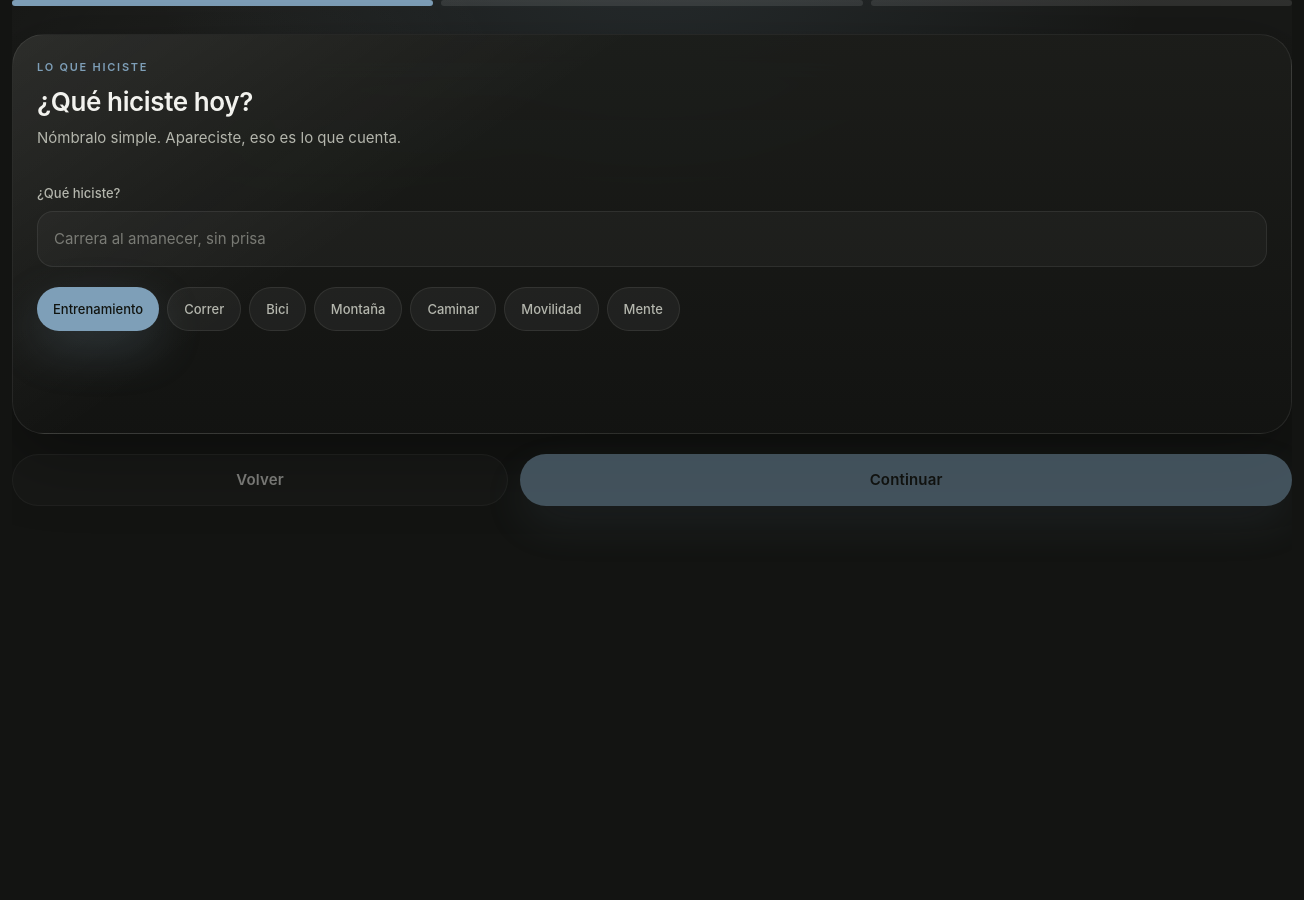
CommitFlowClient › preserves the note when navigating back from the submit step
In the field labelled "¿Qué hiciste?": (652, 239) [37,211,1267,267], type "Tren inferior"
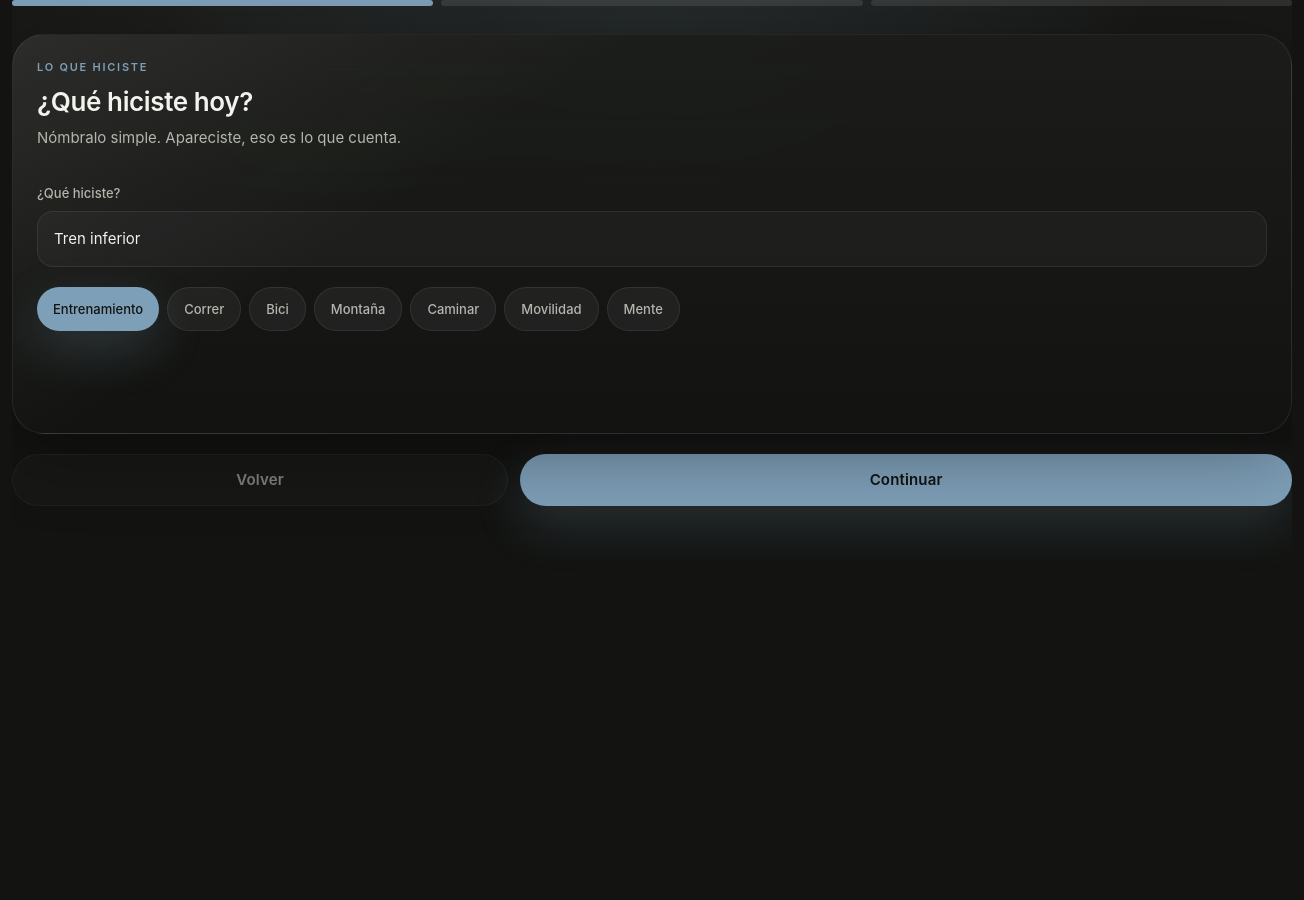
Click the button "Continuar": (906, 480) [520,454,1292,506]
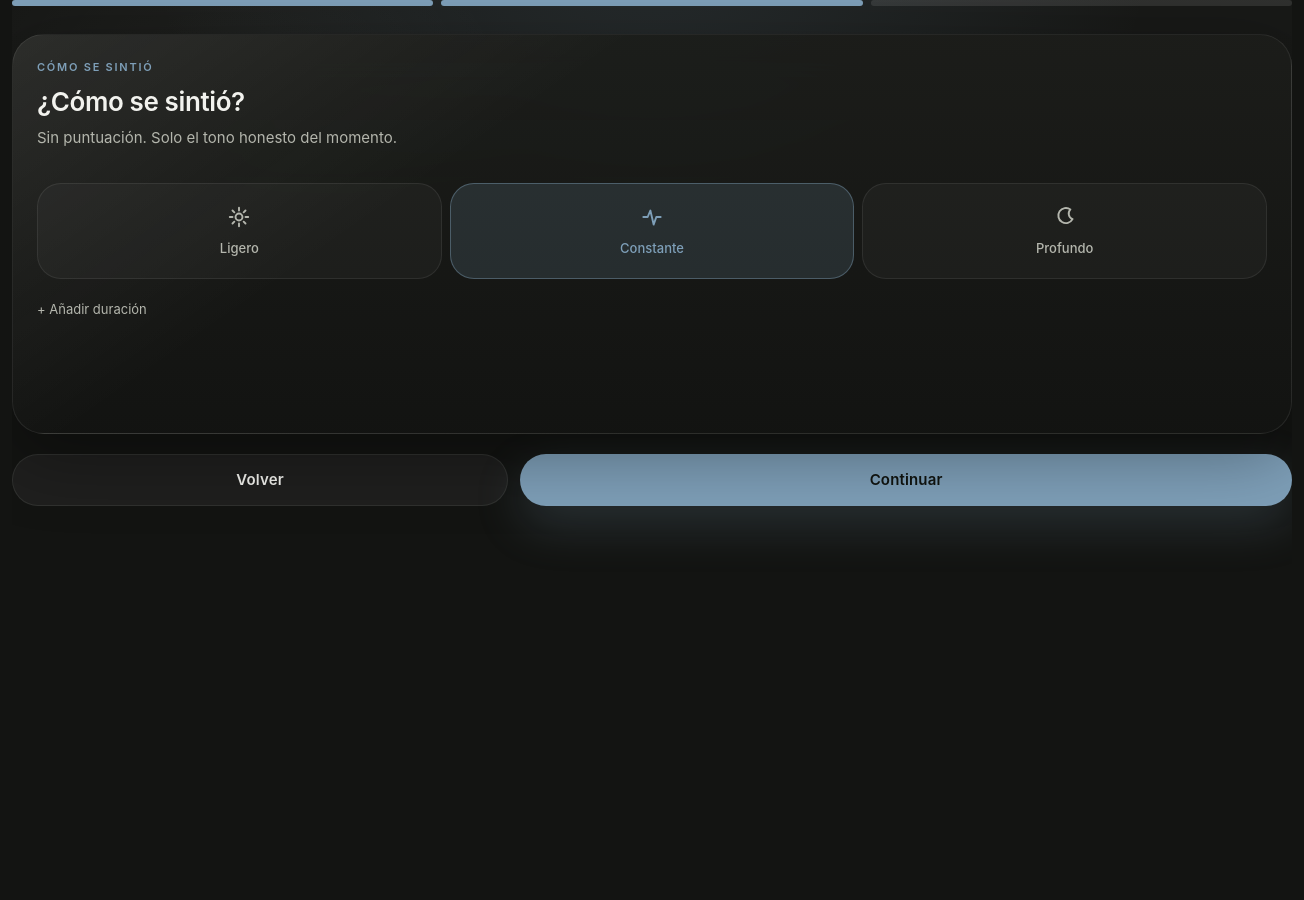
Click the button "Continuar": (906, 480) [520,454,1292,506]
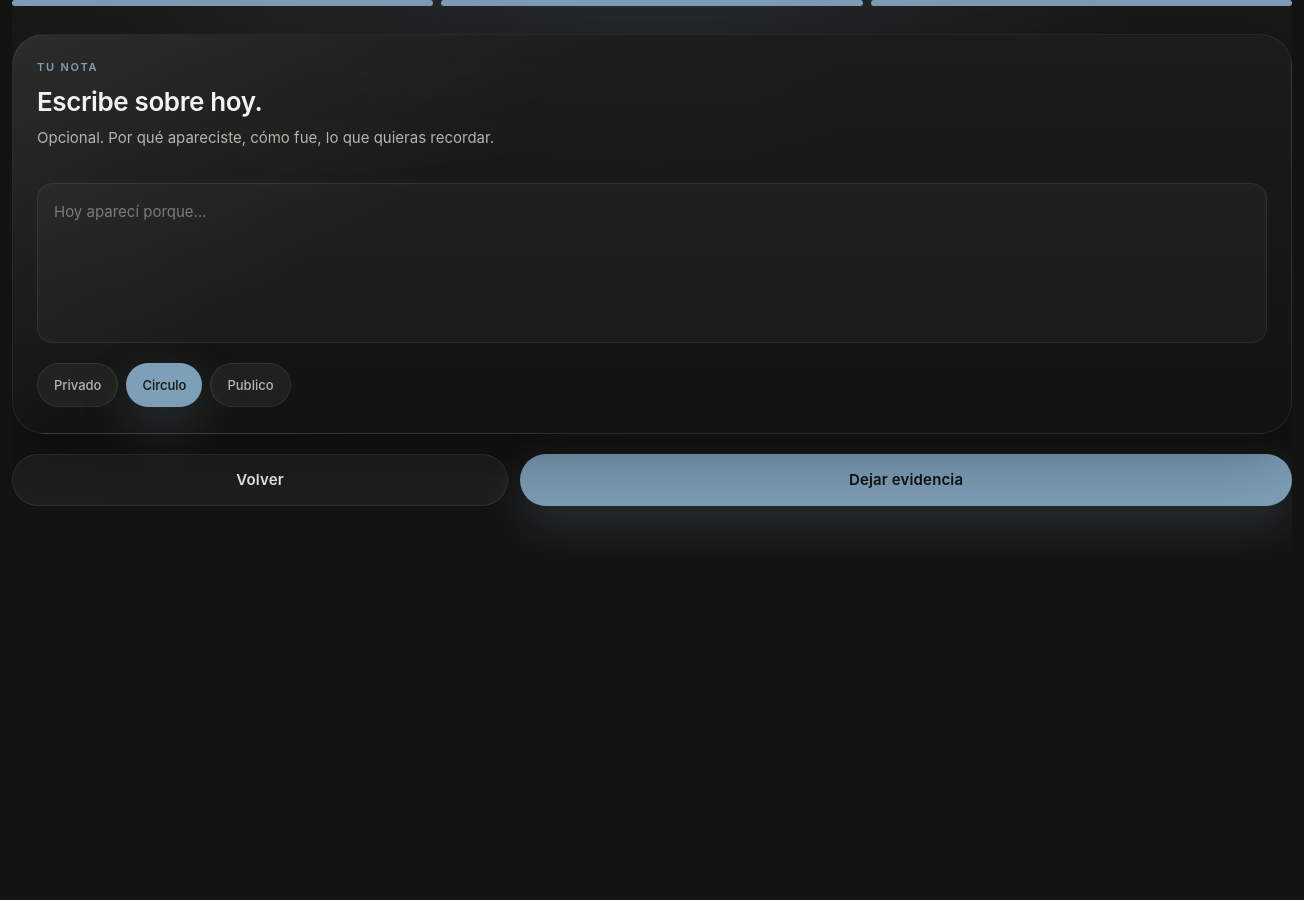
In the text box named "Tu nota": (652, 263) [37,183,1267,343], type "Hoy aparecí porque importa."
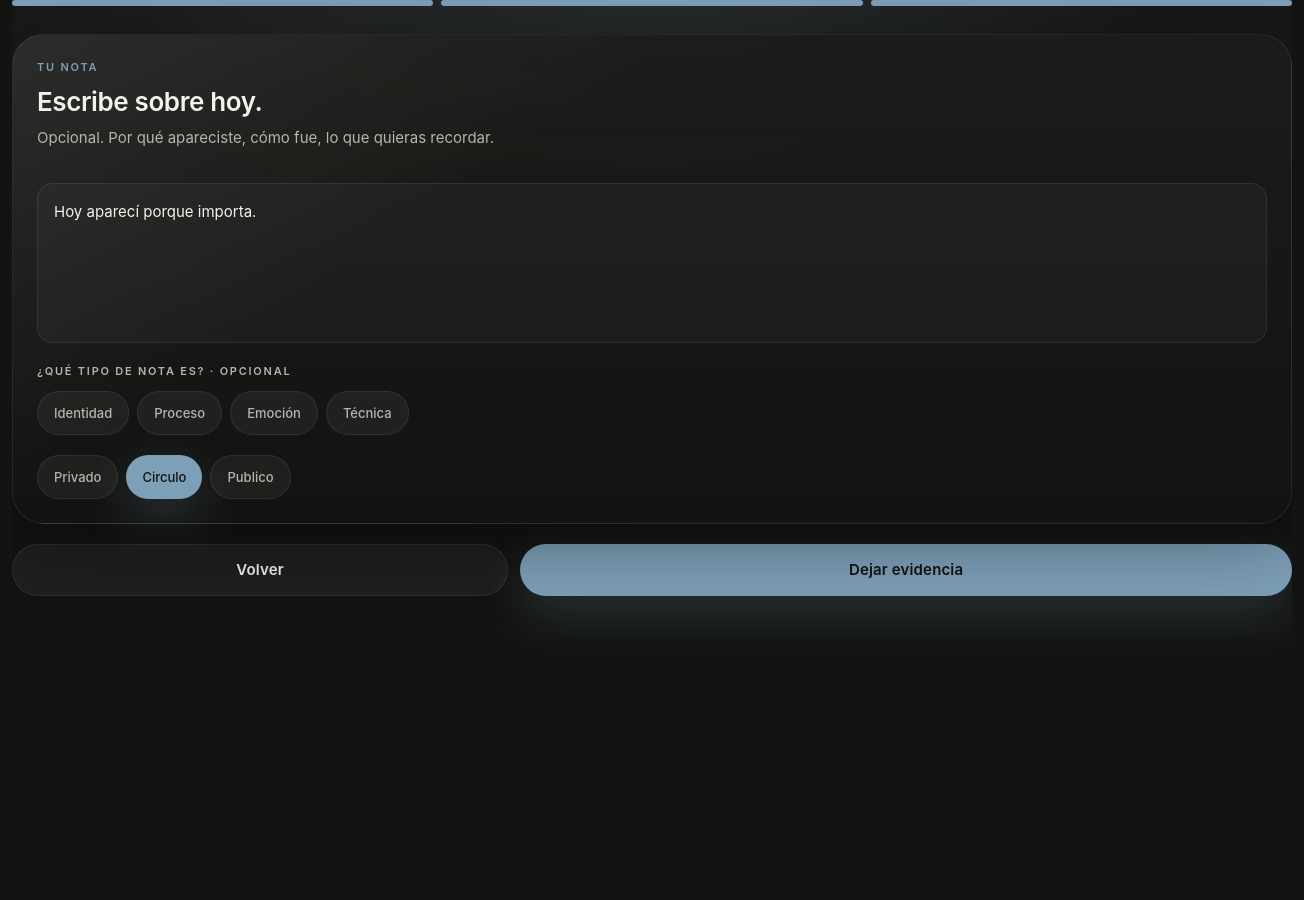
Click the button "Volver": (260, 570) [12,544,508,596]
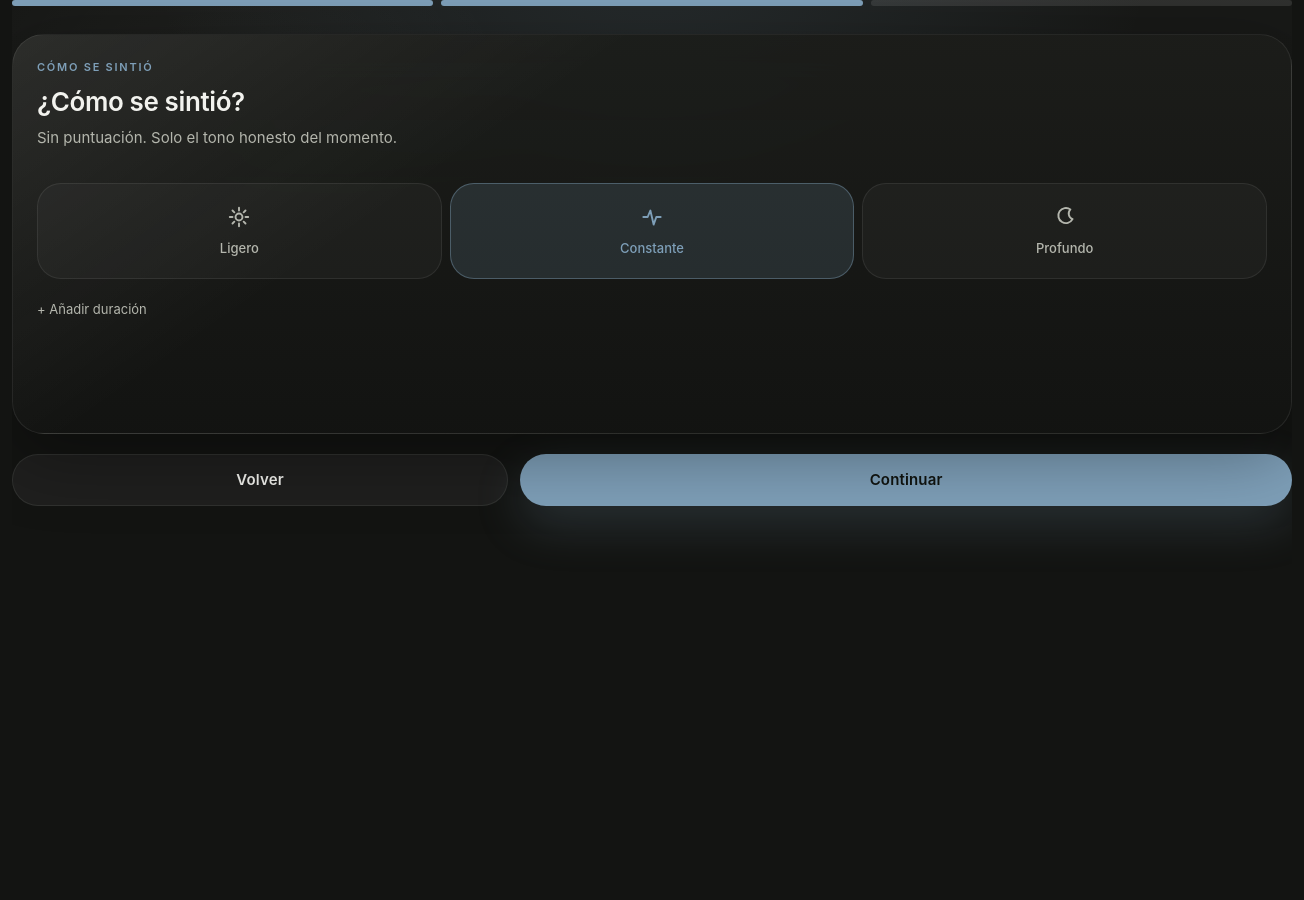
Click the button "Continuar": (906, 480) [520,454,1292,506]
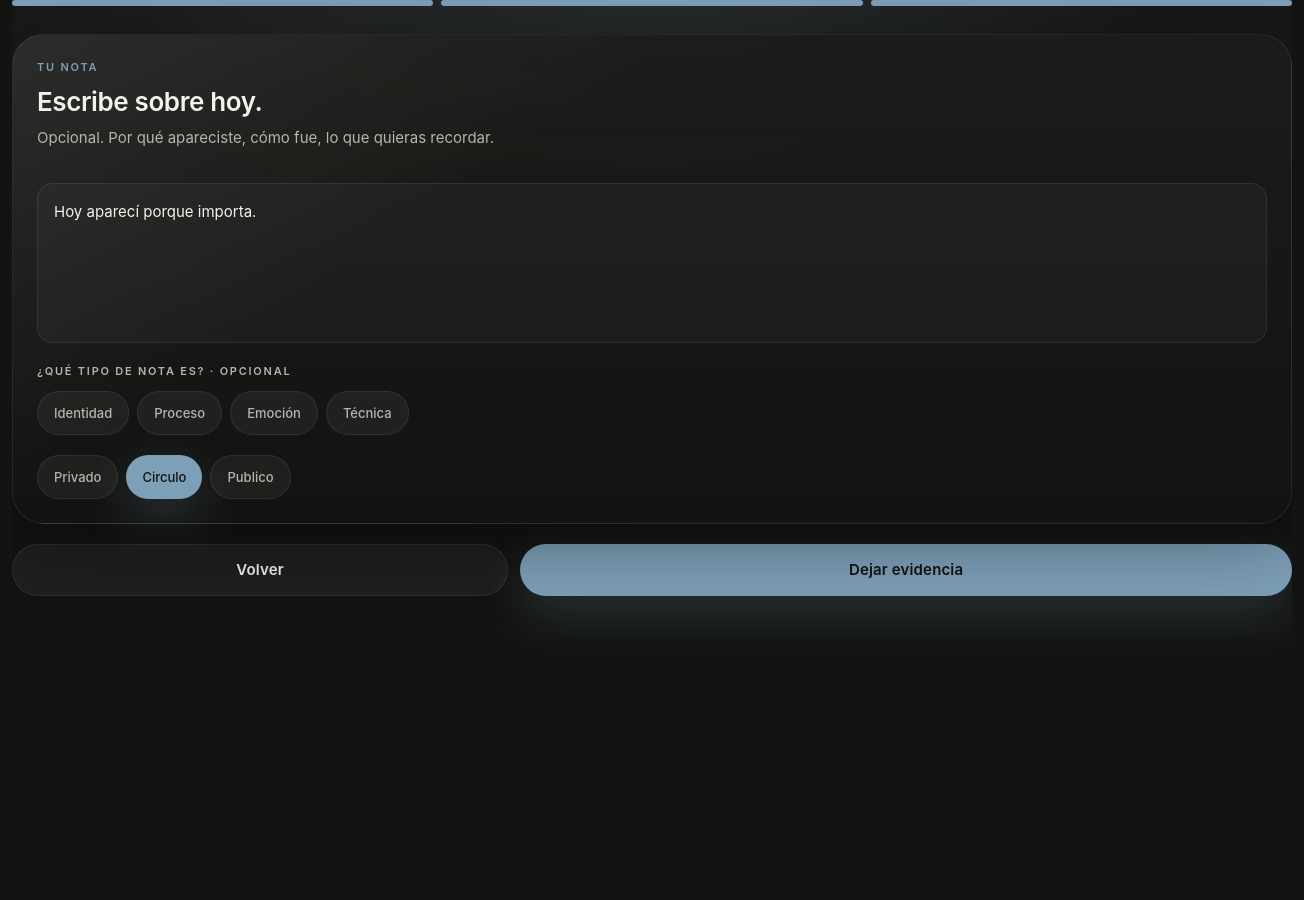
Expected: the text box named "Tu nota" holds "Hoy aparecí porque importa.", [37,183,1267,343]
